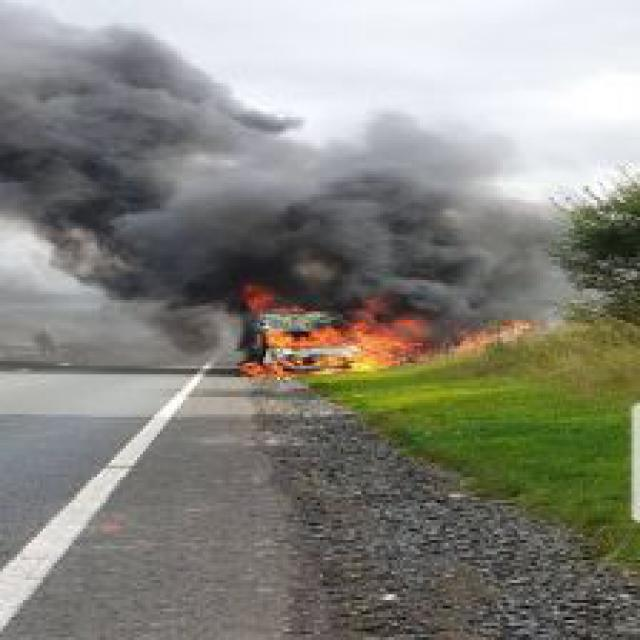fire: (229, 260, 534, 383)
